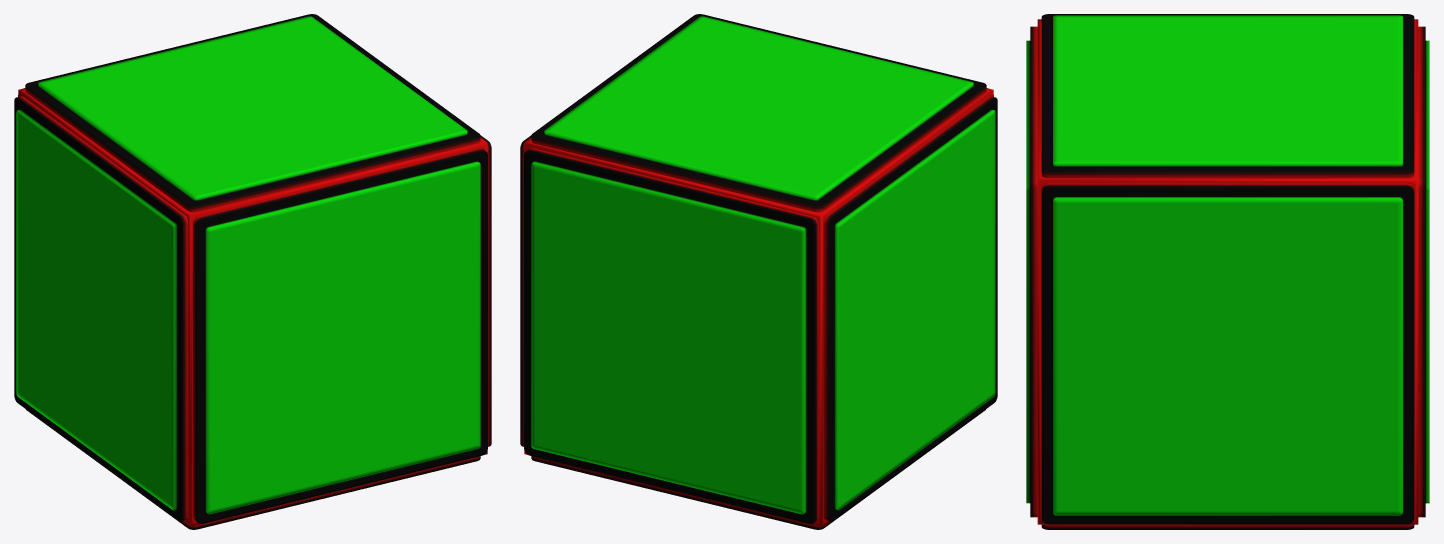
3 views of the same model, side by side, from view 1: azimuth 30°, elevation 25°; view 2: azimuth 150°, elevation 25°; view 3: azimuth 270°, elevation 25° (orthographic). The views are drawn at different scales.
Parts seen in each view (by area): view 1: SM_Cube_01; view 2: SM_Cube_01; view 3: SM_Cube_01.
Boxes of the visible parts, x1,y1,x2,y2 form: SM_Cube_01: [14, 14, 491, 529]; SM_Cube_01: [520, 14, 997, 529]; SM_Cube_01: [1026, 14, 1429, 529].
Size of what is drawn, in the model's own units: 49.97 by 49.97 by 49.97.
